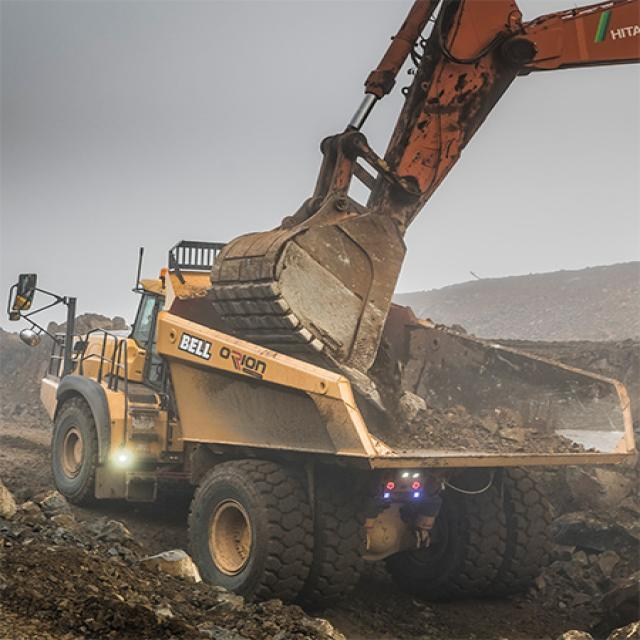dump_truck: (20, 229, 638, 606)
